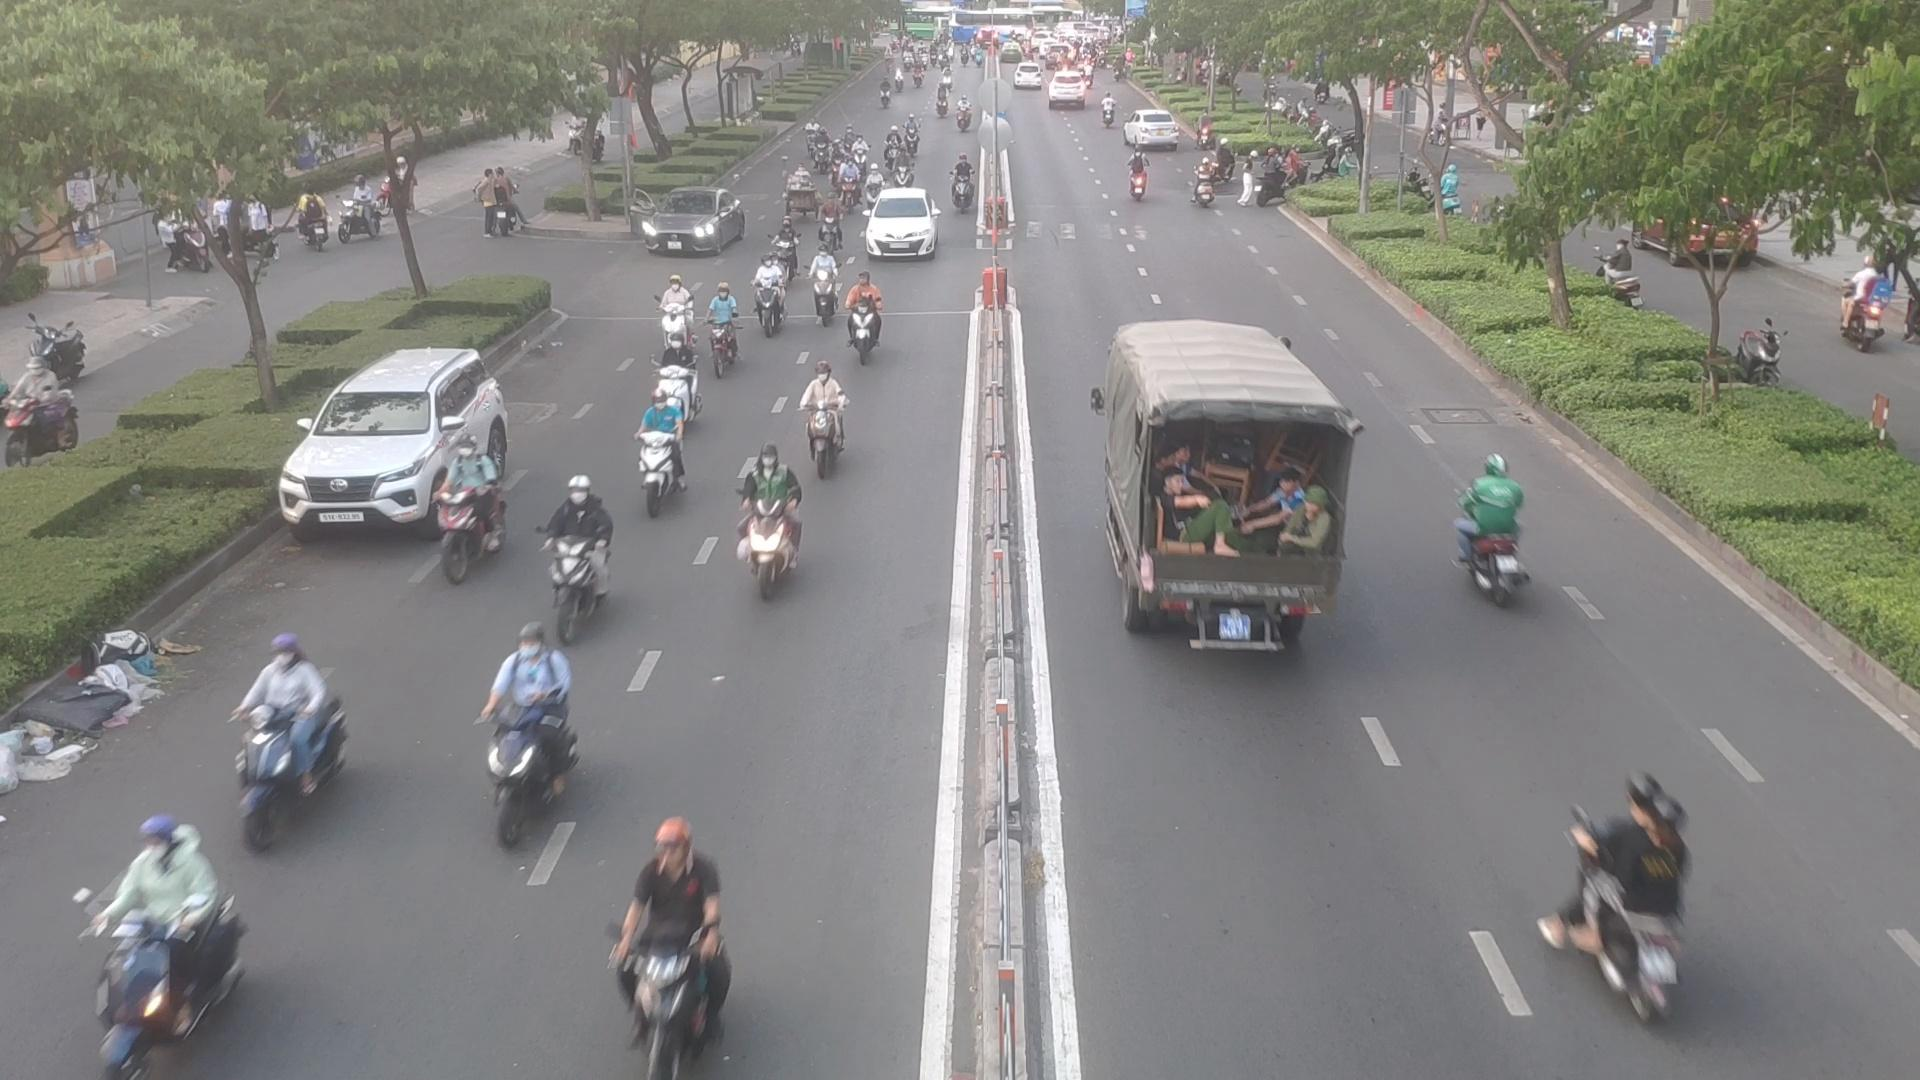car: (1087, 319, 1356, 653), (273, 345, 516, 539), (632, 190, 750, 261), (860, 189, 938, 260), (1124, 109, 1180, 153)
motorbike: (1553, 753, 1691, 1030), (88, 814, 218, 1068), (621, 823, 711, 1080), (491, 633, 589, 851), (237, 633, 339, 829), (535, 477, 633, 678), (740, 454, 810, 597), (1458, 454, 1526, 603), (436, 435, 489, 582), (633, 388, 688, 517), (702, 278, 741, 381), (796, 361, 835, 465), (655, 336, 698, 422), (843, 272, 877, 363), (658, 280, 694, 360), (752, 248, 782, 335), (1184, 158, 1218, 210), (948, 152, 977, 208), (810, 247, 833, 313), (773, 222, 796, 284), (1124, 150, 1151, 202), (818, 196, 844, 248), (881, 127, 901, 166), (864, 164, 882, 204), (841, 160, 858, 200), (902, 116, 920, 153), (815, 128, 829, 169), (895, 150, 910, 190), (802, 120, 818, 154), (852, 136, 865, 174), (831, 142, 843, 183)
